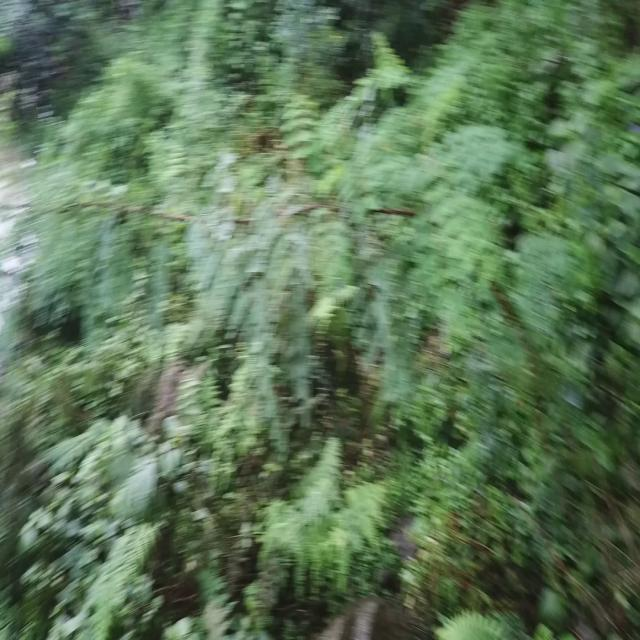Mysore-Thorn-Weed: (0, 105, 569, 406)
